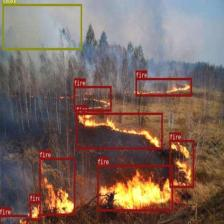fire: (97, 165, 173, 211), (76, 112, 162, 149), (39, 157, 75, 215), (169, 139, 194, 188), (135, 78, 192, 96), (74, 85, 111, 111), (0, 214, 27, 224), (30, 201, 40, 220)
smoke: (2, 4, 82, 50)
